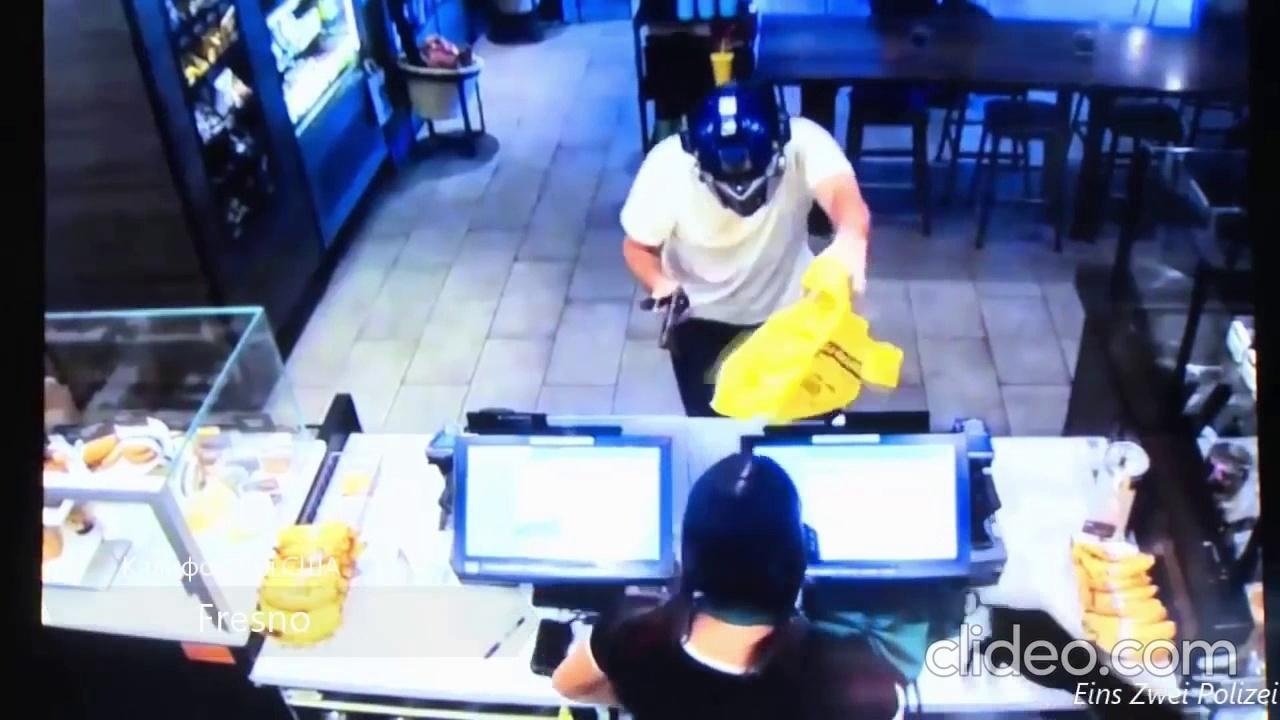person: (548, 449, 919, 720), (616, 72, 872, 412)
pistol: (653, 276, 693, 357)
